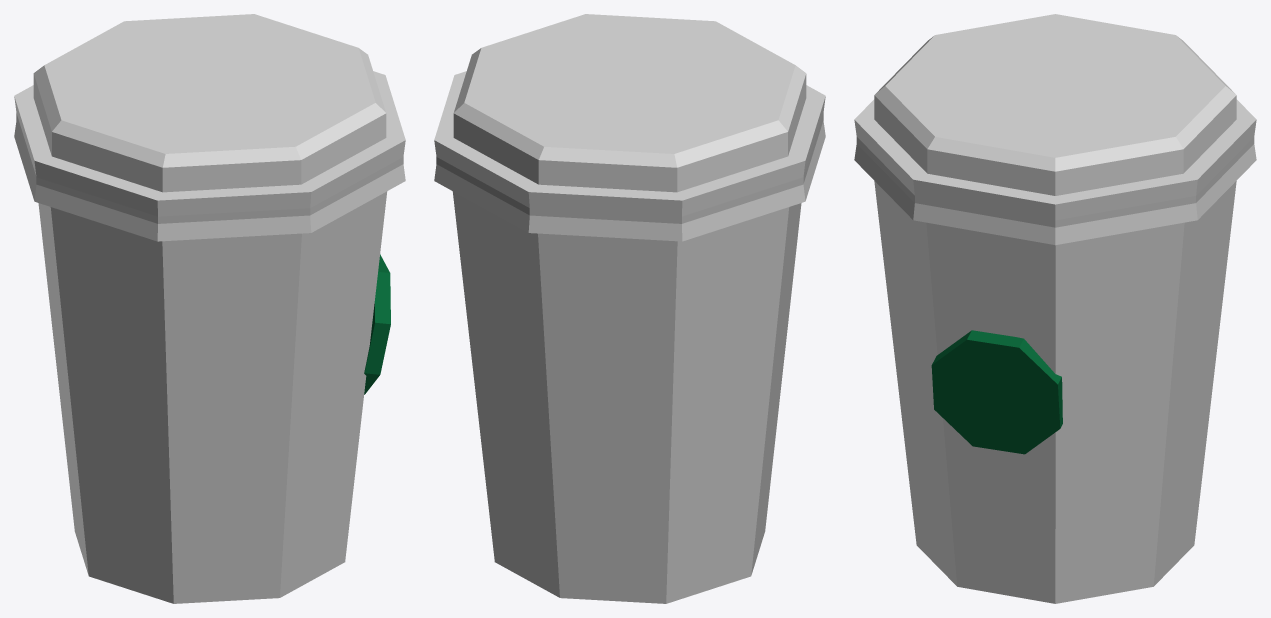
The model's file is starcup.fbx.
3 renders of one model, left to right at view 1: azimuth 30°, elevation 25°; view 2: azimuth 150°, elevation 25°; view 3: azimuth 270°, elevation 25°, orthographic.
Parts seen in each view (by area): view 1: Cylinder; view 2: Cylinder; view 3: Cylinder.
Boxes of the visible parts, x1,y1,x2,y2 form: Cylinder: (14, 14, 405, 603); Cylinder: (434, 14, 825, 603); Cylinder: (854, 14, 1256, 603).
Bounding box in the file's own units: 290 × 365 × 290.
